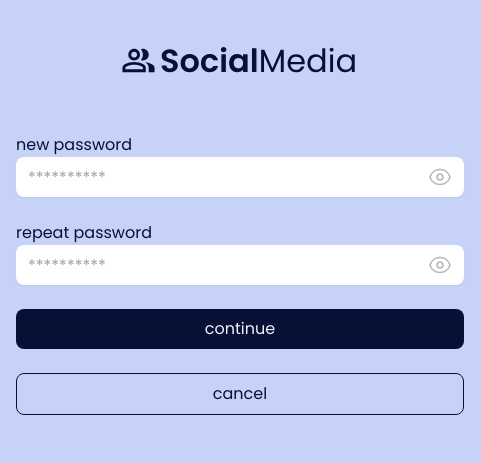
NewPasswordPage › shows error when required query params are missing
The width and height of the screenshot is (481, 463).
Step 1. Type "Password123" into the password field labelled "new password" → point(240, 177), box [16,157,464,197]
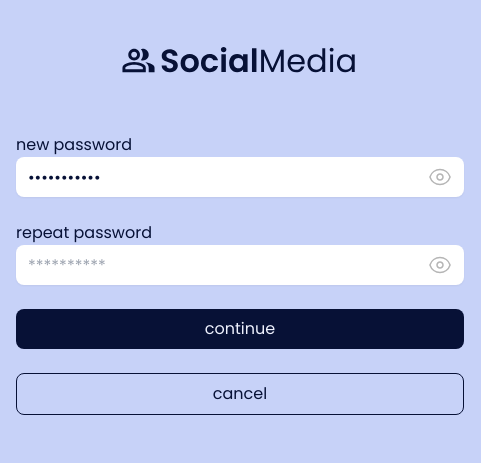
Step 2. Type "Password123" into the password field labelled "repeat password" → point(240, 265), box [16,245,464,285]
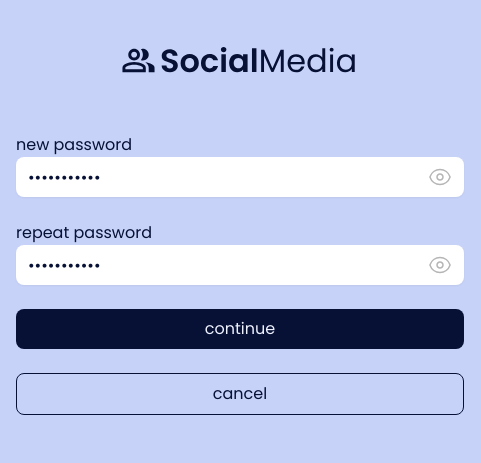
Step 3. Click the button "continue" → point(240, 329), box [16,309,464,349]
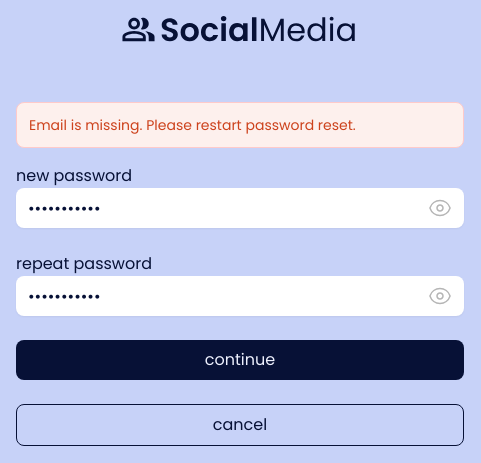
Expected: the text "Email is missing. Please restart password reset." is shown, [29,115,356,135]
